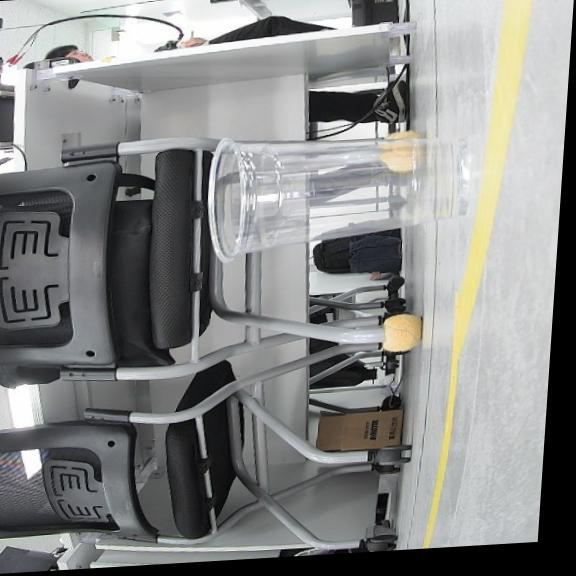Plastik: (209, 137, 469, 260)
